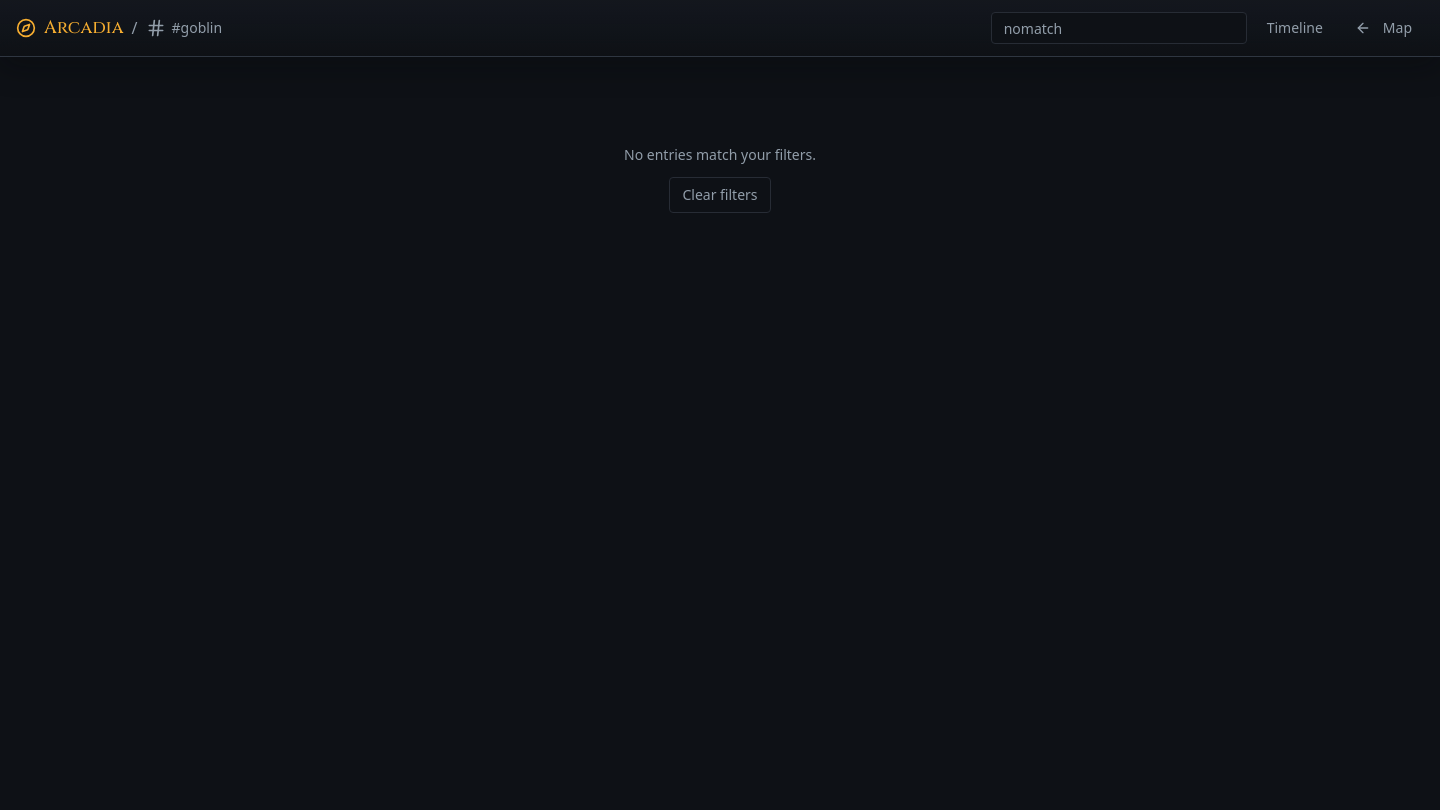
Test: AtlasBrowse — N121: empty state blames the right cause › blames the filter, not the tag, when the tag has entries but the text query hides them
The image size is (1440, 810).
Expected: the text "No entries match your filters." is shown, [624,145,816,164]
Click the button "Clear filters". click: (720, 195)
box: [669,177,770,213]
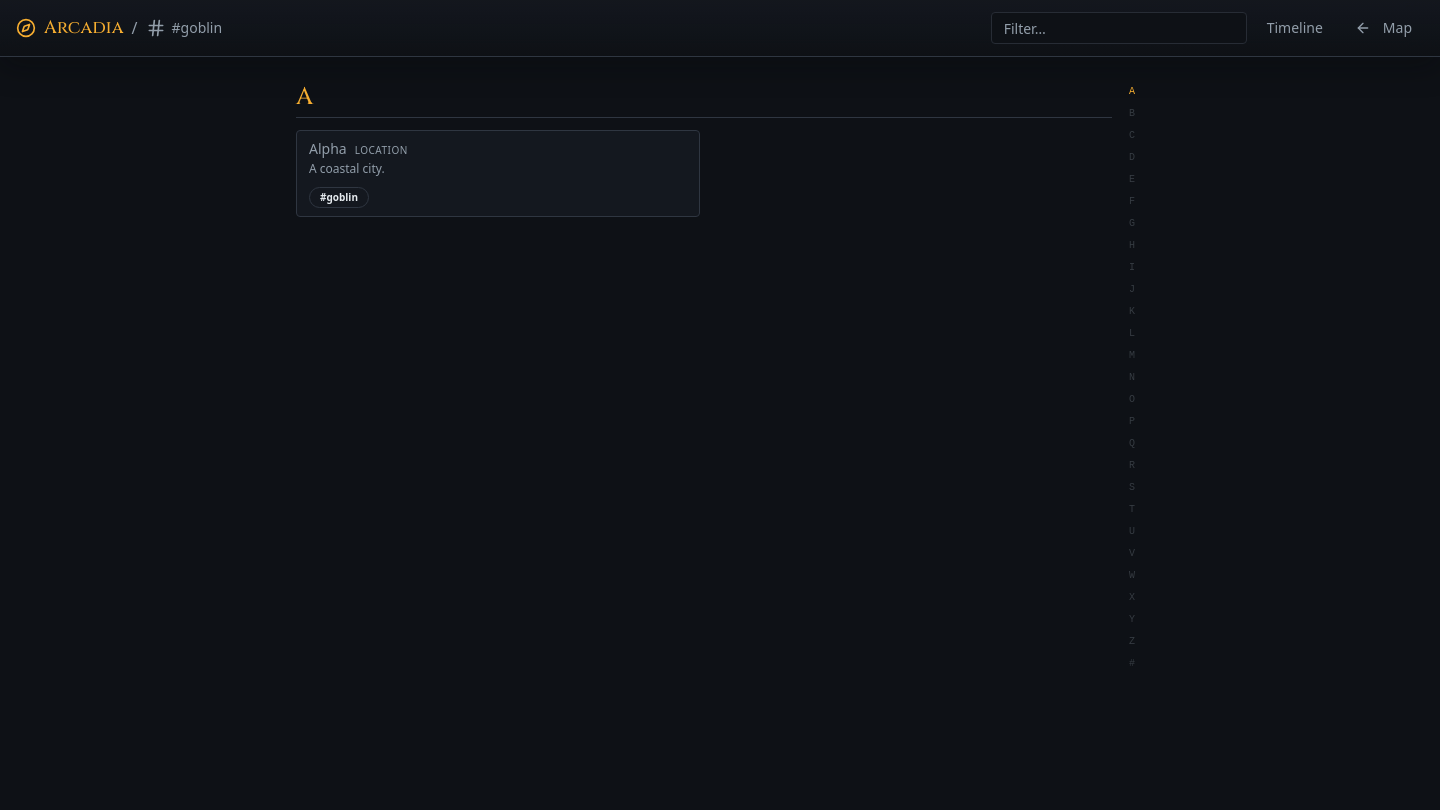
Now the link "Alpha" is shown, box [309,139,347,159]
